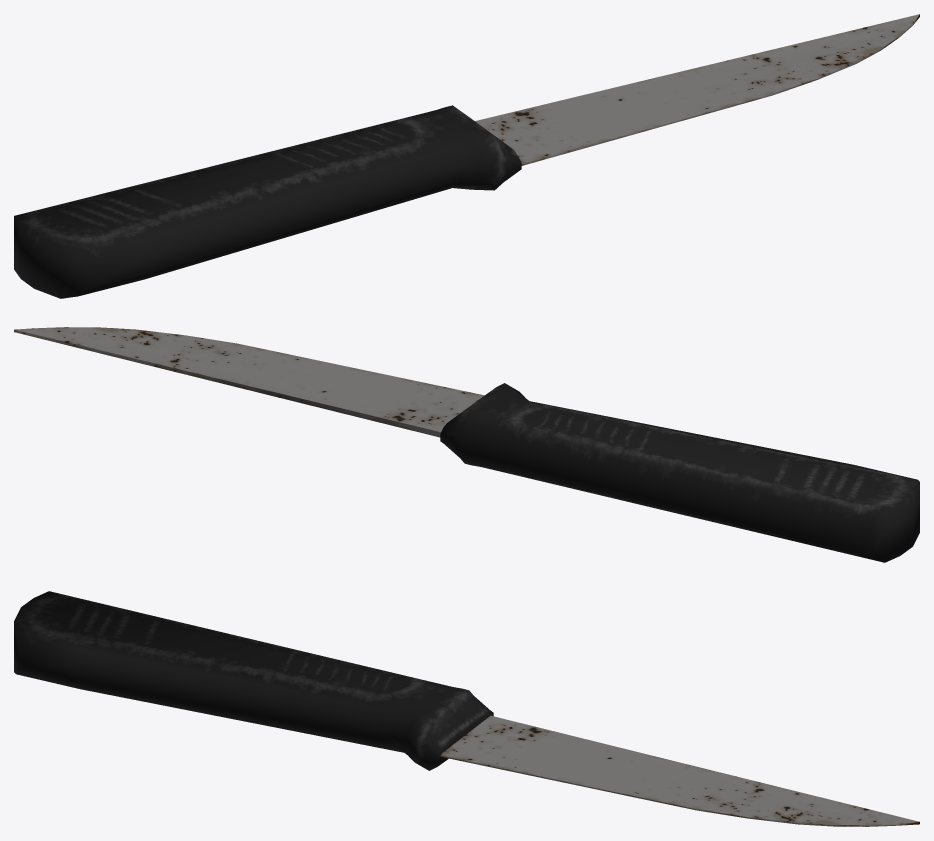
The model's file is Knife01.FBX.
3 renders of one model, top to bottom at view 1: azimuth 30°, elevation 25°; view 2: azimuth 150°, elevation 25°; view 3: azimuth 330°, elevation 25°, orthographic. The views are drawn at different scales.
Parts seen in each view (by area): view 1: Knife01_LOD0; view 2: Knife01_LOD0; view 3: Knife01_LOD0.
Part boxes in pixels (left/top/right/bottom): Knife01_LOD0: left=14, top=14, right=919, bottom=298; Knife01_LOD0: left=14, top=327, right=919, bottom=562; Knife01_LOD0: left=14, top=591, right=919, bottom=826.
Size of the model in its own units: 23.63 by 2.89 by 1.39.
